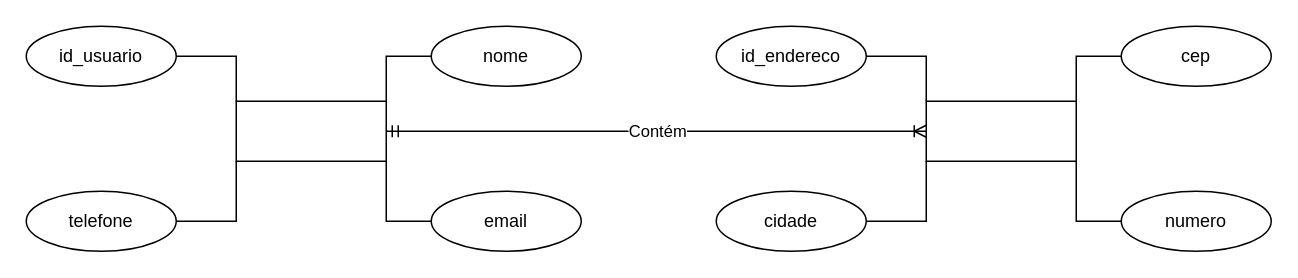
The diagram is 1298 pixels wide and 278 high, and some of its shapes have lost their labels. The centre of each missing label's shape, as x and y in pixels:
endereco: (1000,130)
usuario: (310,130)
